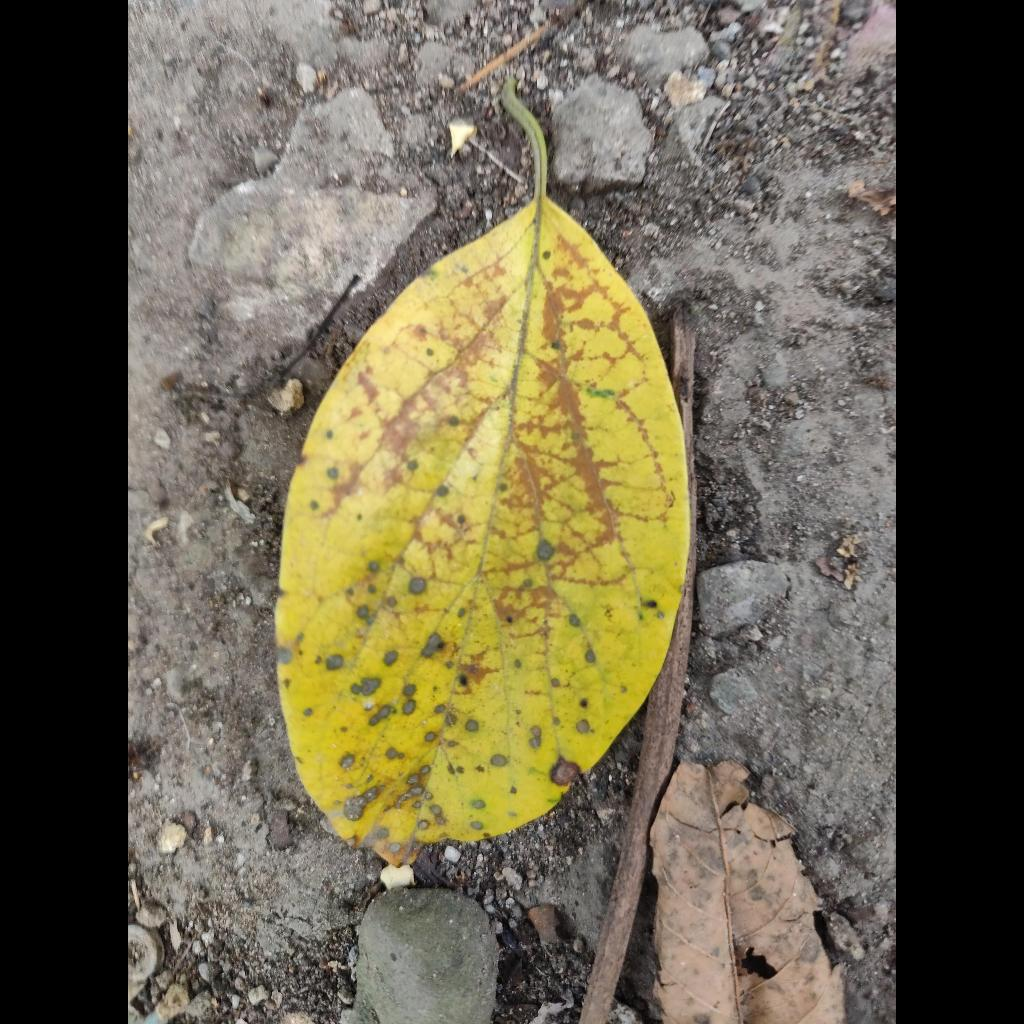nutrient_deficiency: (276, 114, 690, 864)
